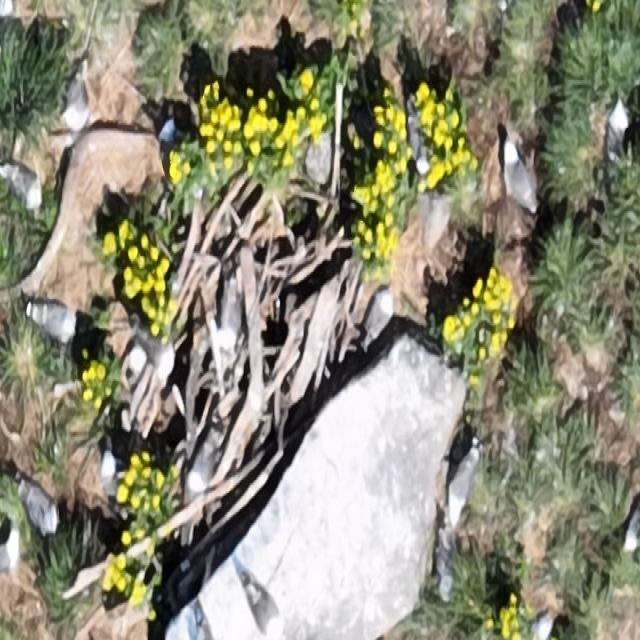F: (497, 130, 538, 222)
umineko: (448, 441, 483, 531), (16, 474, 68, 531), (135, 320, 180, 381), (188, 422, 226, 494), (241, 573, 283, 636), (410, 103, 438, 189), (2, 157, 44, 207), (221, 269, 243, 349), (99, 444, 127, 506), (364, 294, 396, 343), (64, 68, 89, 128), (31, 306, 76, 337), (607, 104, 627, 152), (0, 530, 22, 570)
